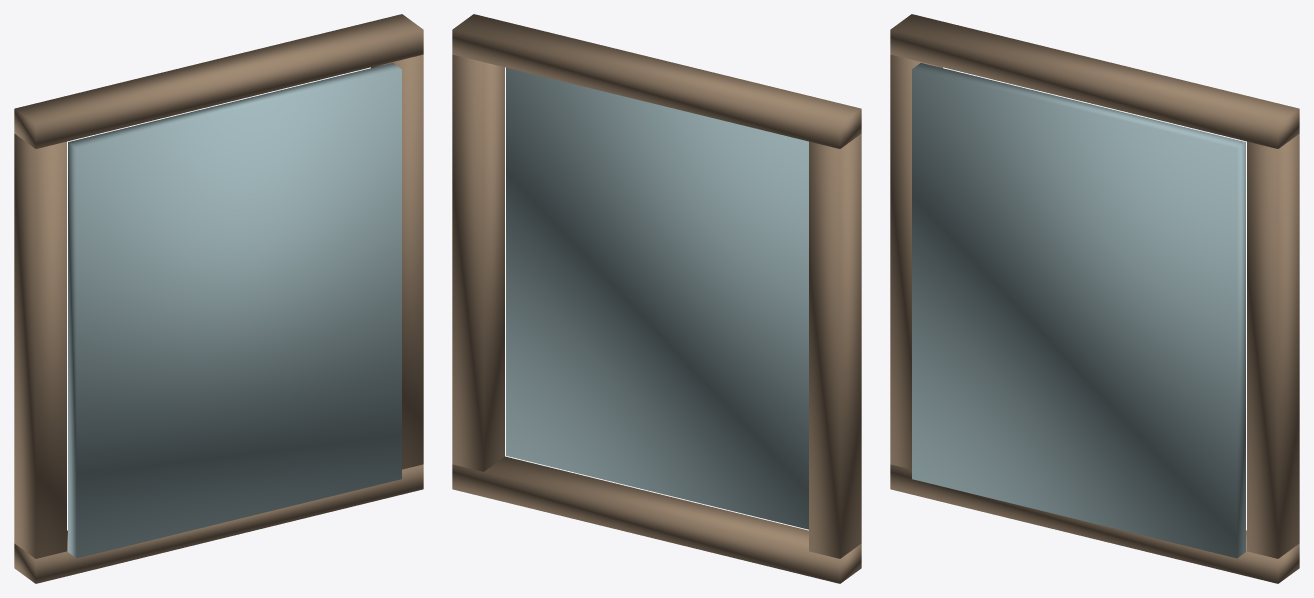
File: motel_wall_mirror__squat.glb
3 renders of one model, left to right at view 1: azimuth 30°, elevation 25°; view 2: azimuth 150°, elevation 25°; view 3: azimuth 330°, elevation 25°, orthographic.
Visible parts, largest first — view 1: world; view 2: world; view 3: world.
Part boxes in pixels (<box>): world: <box>14,14,423,583</box>; world: <box>452,14,861,583</box>; world: <box>890,14,1299,583</box>.
Bounding box in the file's own units: 0.682 × 0.7728 × 0.0945.
